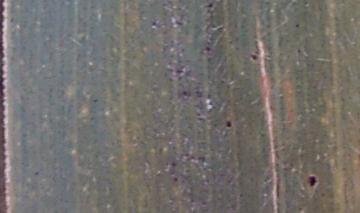tarspot: (1, 1, 10, 213), (307, 174, 319, 189), (248, 52, 259, 64), (201, 2, 214, 10), (224, 119, 232, 129), (91, 97, 100, 105), (150, 19, 157, 29), (180, 89, 188, 97), (293, 22, 300, 30), (204, 44, 211, 52), (32, 169, 40, 176), (170, 161, 177, 167), (172, 176, 178, 182), (296, 47, 301, 54)
